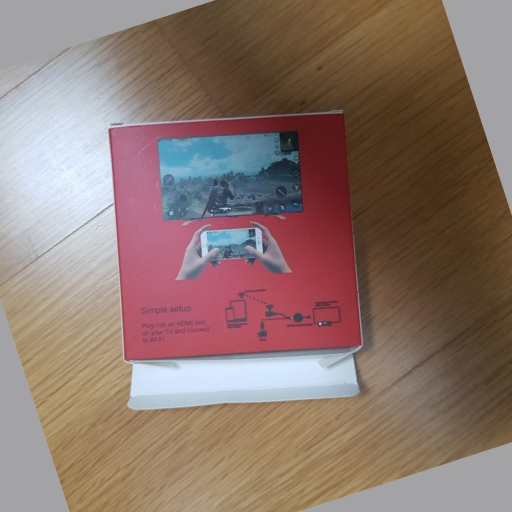Paper_0: (102, 107, 381, 415)
